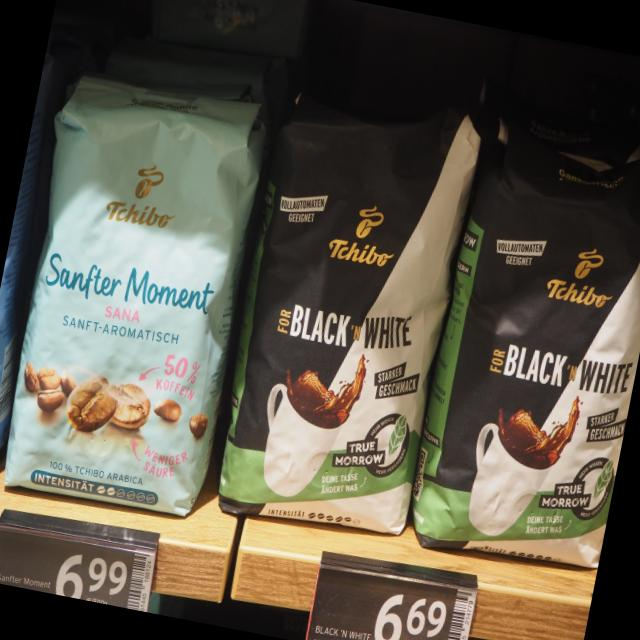BW Bohne: (198, 70, 492, 551), (399, 112, 640, 583)
SM Bohne: (0, 54, 281, 528)
